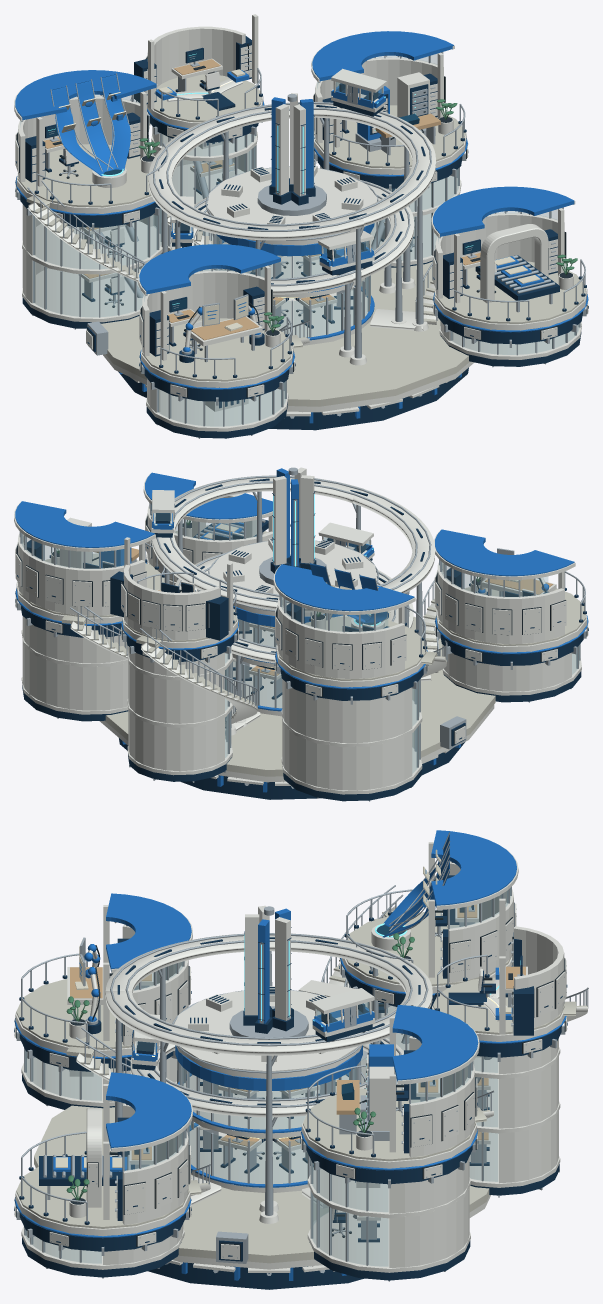
The model's file is bytedance-refined-v1-low.glb.
3 views of the same model, one above another, from view 1: azimuth 30°, elevation 25°; view 2: azimuth 150°, elevation 25°; view 3: azimuth 270°, elevation 25° (orthographic). The views are drawn at different scales.
Parts seen in each view (by area): view 1: hub_porcelain (×4), hub_mineral_floor, hub_brushed_aluminum (×2), hub_blue_enamel (×2), hub_glazing, hub_service_navy (×2), hub_worktop, hub_seals, hub_content_card, hub_plant, hub_screen; view 2: hub_porcelain (×4), hub_blue_enamel (×2), hub_service_navy, hub_brushed_aluminum (×2), hub_mineral_floor, hub_glazing, hub_seals, hub_worktop; view 3: hub_porcelain (×3), hub_blue_enamel (×3), hub_brushed_aluminum (×2), hub_mineral_floor, hub_service_navy (×2), hub_glazing, hub_seals, hub_worktop, hub_plant, hub_content_card.
Boxes of the visible parts, left/top/right/bottom form: hub_porcelain (×4): left=14, top=14, right=588, bottom=431; hub_mineral_floor: left=17, top=74, right=585, bottom=406; hub_brushed_aluminum (×2): left=15, top=48, right=586, bottom=438; hub_blue_enamel (×2): left=15, top=31, right=588, bottom=423; hub_glazing: left=20, top=54, right=579, bottom=426; hub_service_navy (×2): left=15, top=36, right=588, bottom=438; hub_worktop: left=43, top=59, right=480, bottom=340; hub_seals: left=16, top=44, right=587, bottom=397; hub_content_card: left=58, top=69, right=540, bottom=331; hub_plant: left=138, top=99, right=577, bottom=332; hub_screen: left=47, top=49, right=479, bottom=311; hub_porcelain (×4): left=14, top=467, right=588, bottom=794; hub_blue_enamel (×2): left=15, top=468, right=588, bottom=792; hub_service_navy: left=15, top=478, right=588, bottom=801; hub_brushed_aluminum (×2): left=15, top=467, right=586, bottom=801; hub_mineral_floor: left=17, top=525, right=586, bottom=776; hub_glazing: left=21, top=505, right=579, bottom=773; hub_seals: left=16, top=516, right=587, bottom=744; hub_worktop: left=93, top=548, right=553, bottom=675; hub_porcelain (×3): left=14, top=842, right=587, bottom=1272; hub_blue_enamel (×3): left=14, top=830, right=566, bottom=1280; hub_brushed_aluminum (×2): left=14, top=832, right=588, bottom=1281; hub_mineral_floor: left=16, top=911, right=587, bottom=1263; hub_service_navy (×2): left=14, top=875, right=567, bottom=1289; hub_glazing: left=25, top=888, right=510, bottom=1266; hub_seals: left=16, top=902, right=565, bottom=1260; hub_worktop: left=70, top=904, right=525, bottom=1216; hub_plant: left=66, top=933, right=414, bottom=1200; hub_content_card: left=55, top=849, right=511, bottom=1167.
Bounding box in the file's own units: 16.18 × 9.69 × 16.26.
